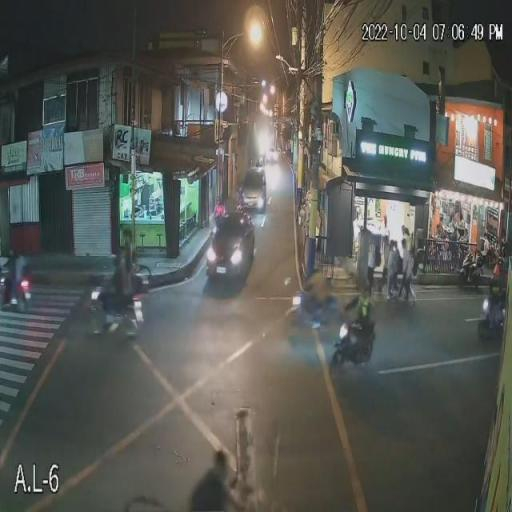helmet: (358, 280, 370, 294), (490, 258, 502, 270), (120, 247, 130, 259)
motorcycle: (88, 252, 147, 338), (329, 286, 377, 374), (288, 268, 343, 333), (477, 257, 508, 340), (0, 252, 32, 314), (458, 248, 488, 286)
rider: (342, 282, 375, 346), (106, 250, 138, 310), (301, 268, 332, 314), (0, 252, 24, 306), (486, 257, 506, 311)
